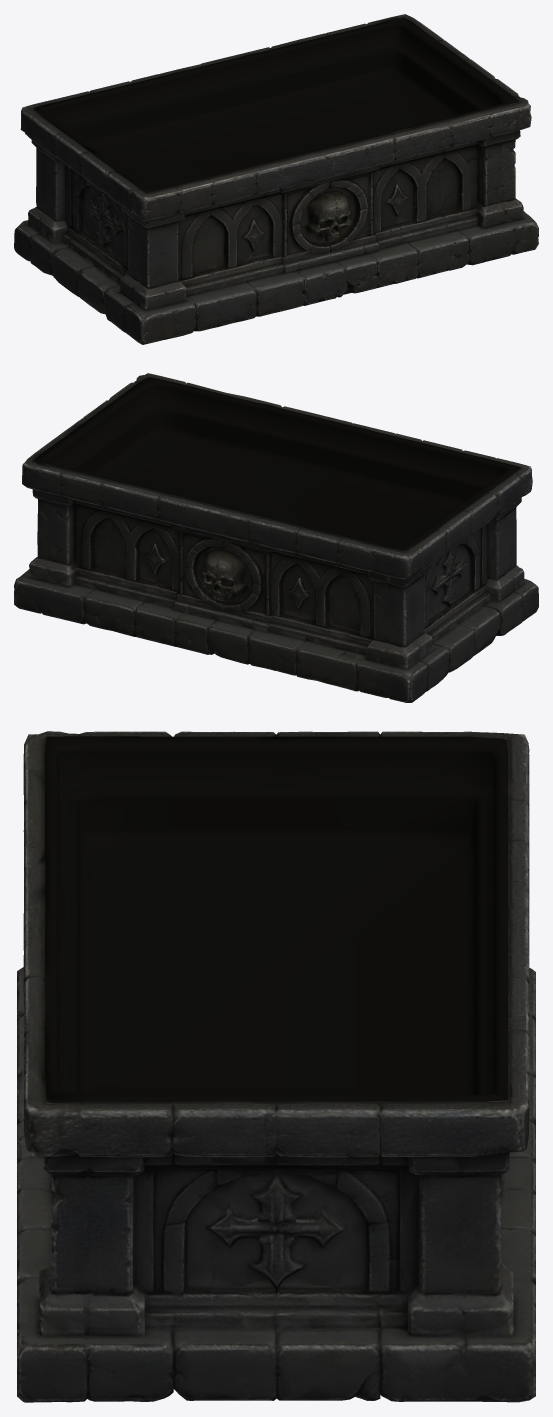
Rendered from Coffin_bottom.fbx.
The picture shows the model from 3 angles, top to bottom: view 1: azimuth 30°, elevation 25°; view 2: azimuth 150°, elevation 25°; view 3: azimuth 270°, elevation 25°; orthographic projection. The views are drawn at different scales.
Parts seen in each view (by area): view 1: Coffin_bottom; view 2: Coffin_bottom; view 3: Coffin_bottom.
Part boxes in pixels (bbox=[...]): Coffin_bottom: bbox=[14, 14, 538, 344]; Coffin_bottom: bbox=[14, 373, 538, 702]; Coffin_bottom: bbox=[17, 731, 535, 1402].
Size of the model in its own units: 97.78 by 34.59 by 55.31.
1 material, 1 textured.
